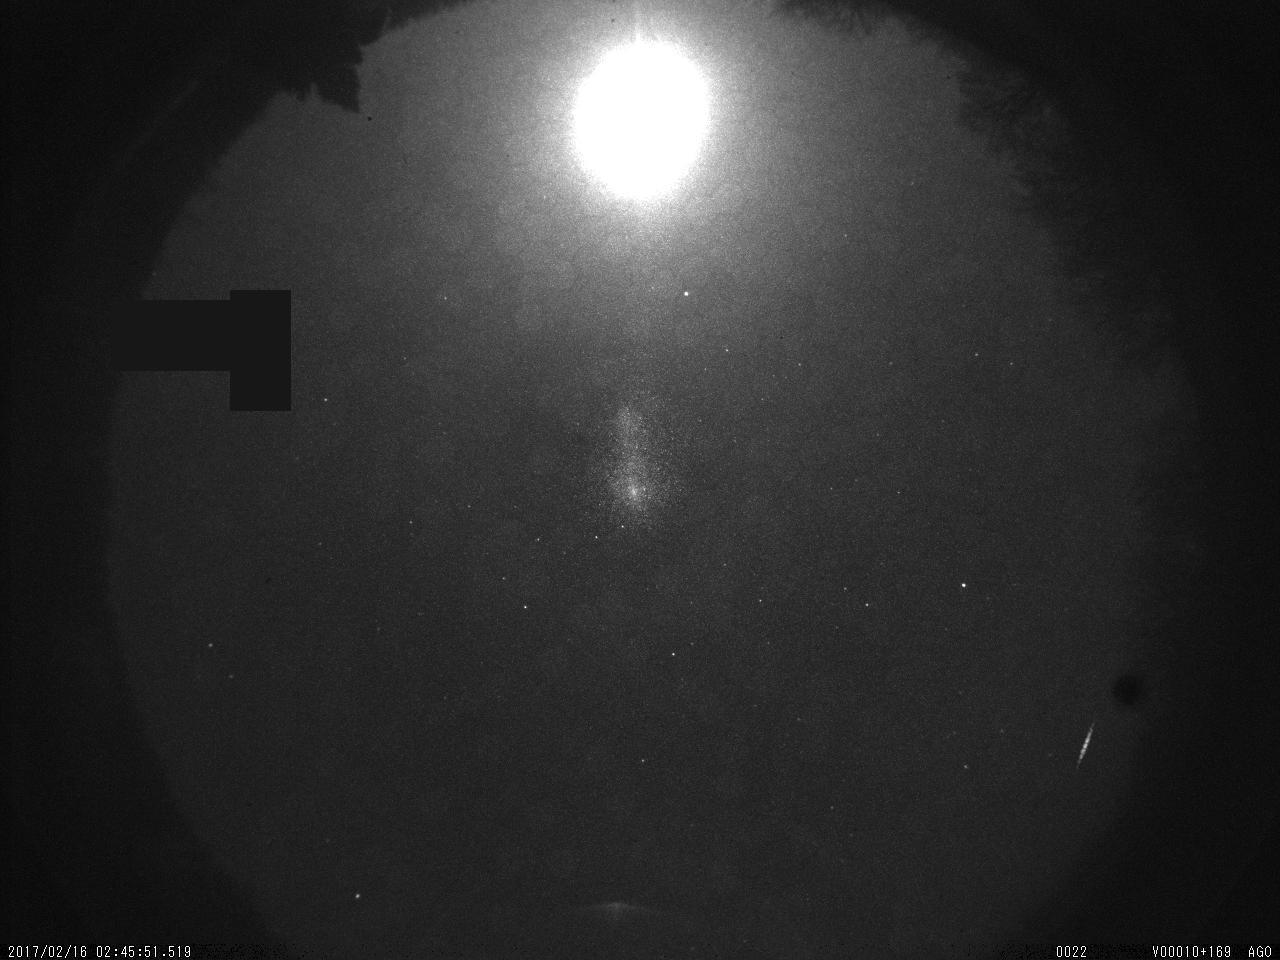meteor: (1069, 707, 1111, 779)
